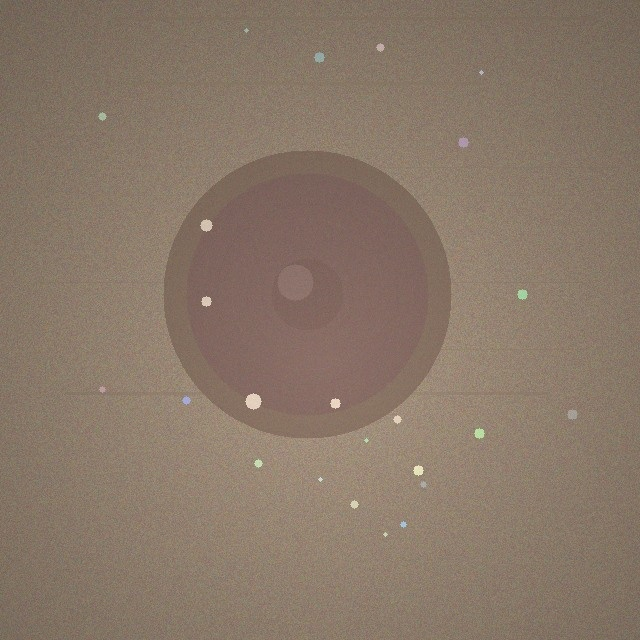overburn: (163, 150, 451, 438)
